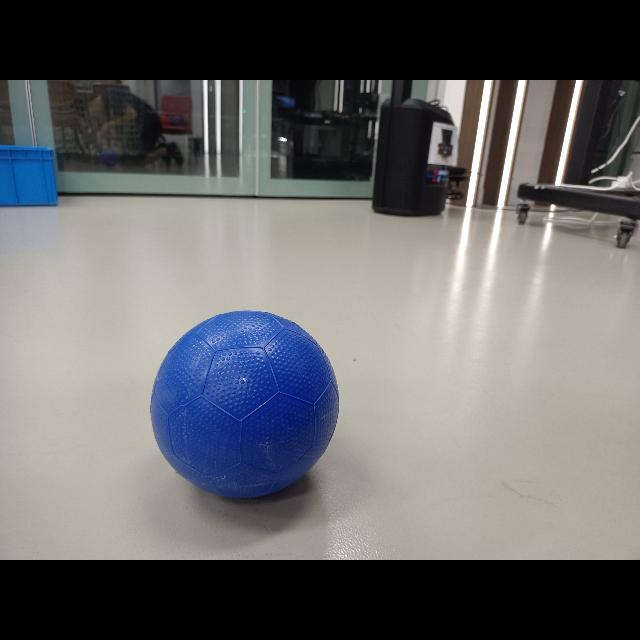B: (149, 310, 339, 498)
